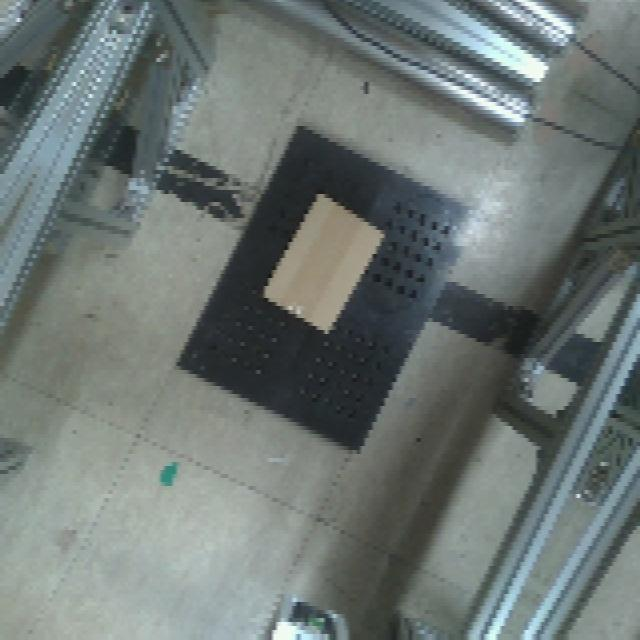box: (253, 192, 391, 342)
pallet: (171, 110, 474, 452)
